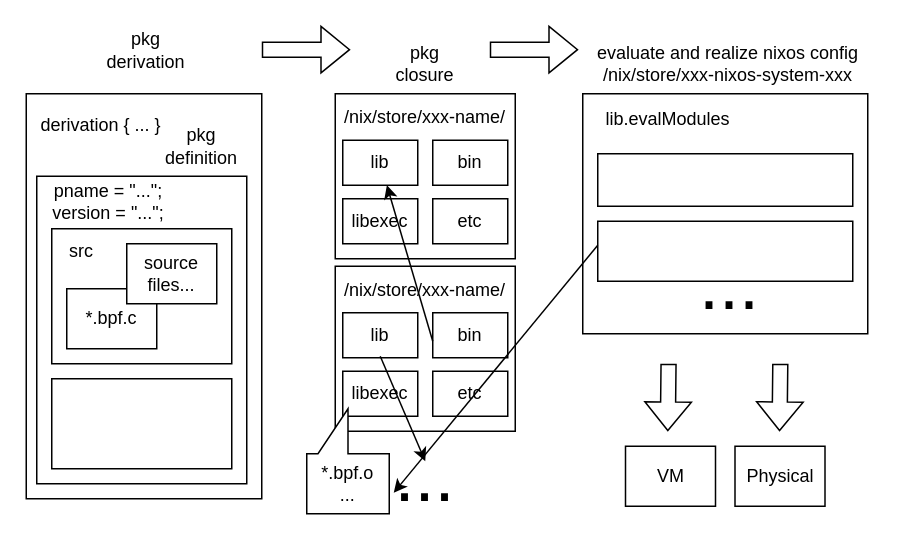
Image size: 900x546. Some labels were removed from this diagram. Each missing label, with the box of its shape:
boot.kernelPackages = { ... }: (596, 152, 853, 206)
inputs = [ ... ]; phases = "...";: (50, 377, 232, 469)
systemd.services.prometheus-ebpf-exporter.serviceConfig: (596, 220, 853, 281)
